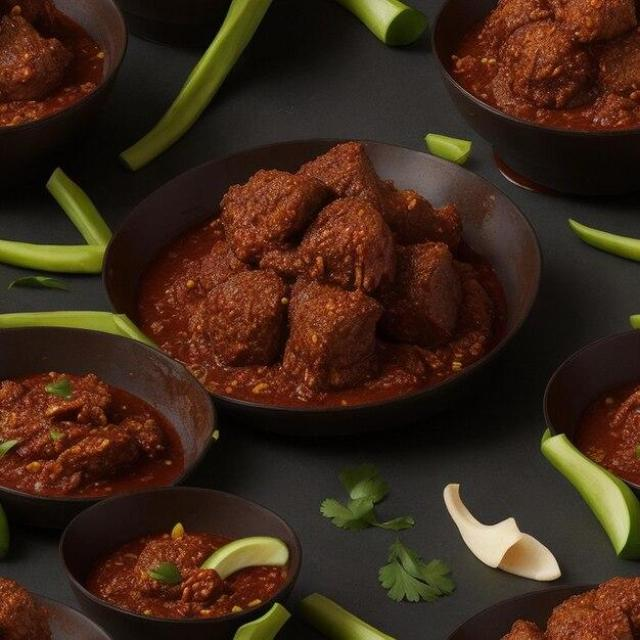Rendang: (185, 137, 486, 395)
